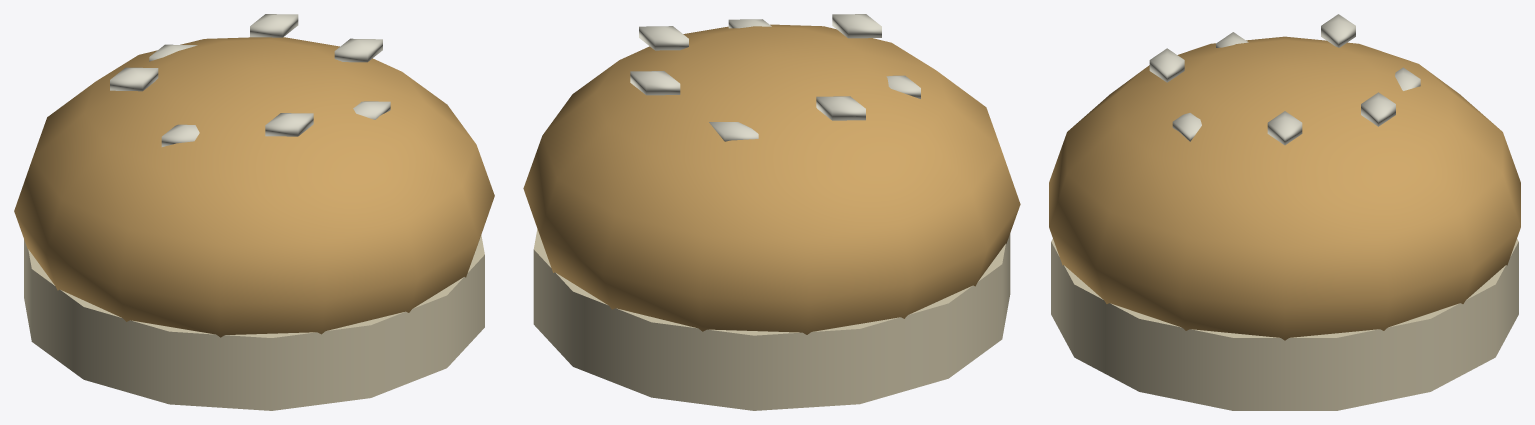
File: bun.glb
The picture shows the model from 3 angles, left to right: view 1: azimuth 30°, elevation 25°; view 2: azimuth 150°, elevation 25°; view 3: azimuth 270°, elevation 25°; orthographic projection. The views are drawn at different scales.
Visible parts, largest first — view 1: bun; view 2: bun; view 3: bun.
Part boxes in pixels (box(x1,y1,x2,y2)): bun: box(14, 14, 494, 410); bun: box(523, 14, 1020, 410); bun: box(1049, 14, 1520, 410).
Size of the model in its own units: 0.12 by 0.0752 by 0.117.
